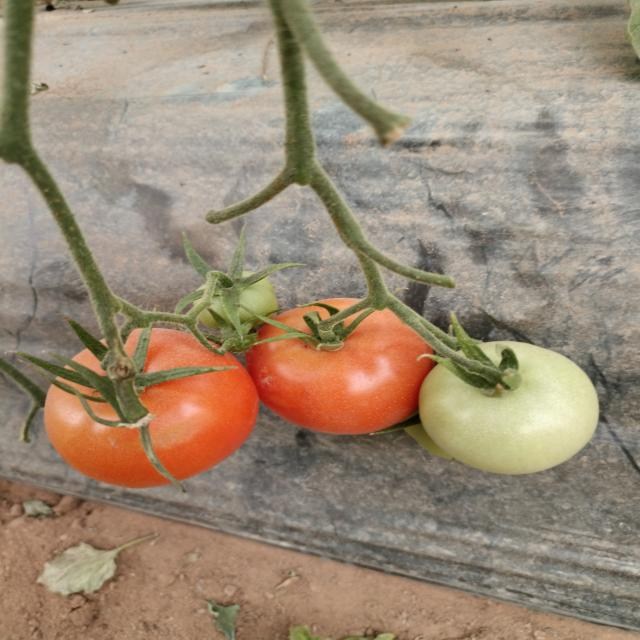Ripe Tomato: (42, 327, 255, 486), (252, 300, 443, 438)
Unripe Tomato: (416, 342, 595, 478), (199, 271, 275, 327)
